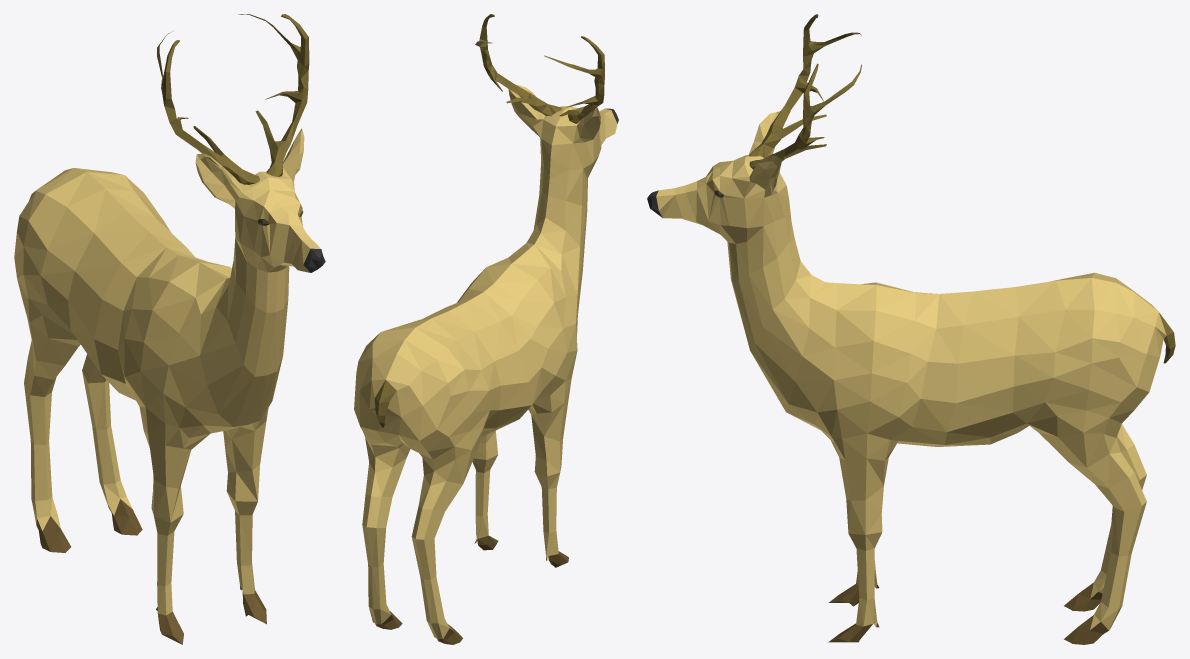
File: deer.fbx
3 views of the same model, side by side, from view 1: azimuth 30°, elevation 25°; view 2: azimuth 150°, elevation 25°; view 3: azimuth 270°, elevation 25° (orthographic). The views are drawn at different scales.
Visible parts, largest first — view 1: deer; view 2: deer; view 3: deer.
Boxes of the visible parts, left/top/right/bottom form: deer: left=14, top=14, right=325, bottom=644; deer: left=354, top=14, right=618, bottom=644; deer: left=647, top=14, right=1175, bottom=644.
Size of the model in its own units: 24.29 by 98.08 by 80.55.
